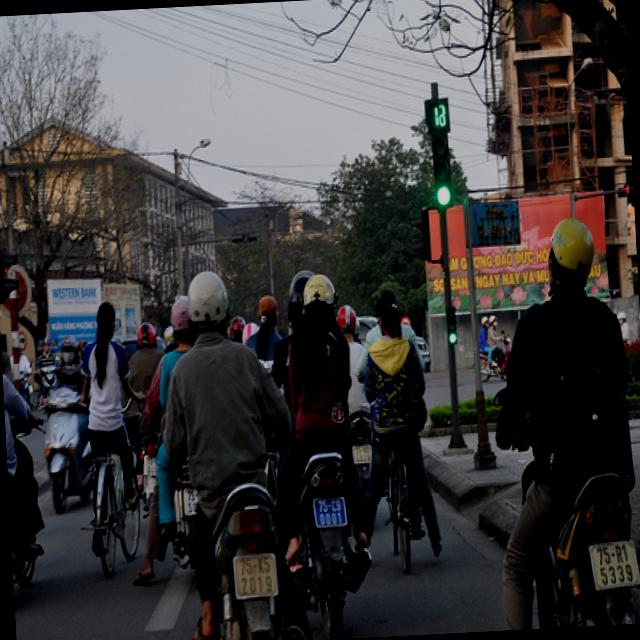Vehicle: (519, 452, 640, 629), (198, 444, 306, 640), (305, 449, 376, 640), (5, 413, 54, 604), (40, 384, 96, 510), (160, 458, 203, 590), (348, 408, 377, 518), (478, 329, 513, 383)
